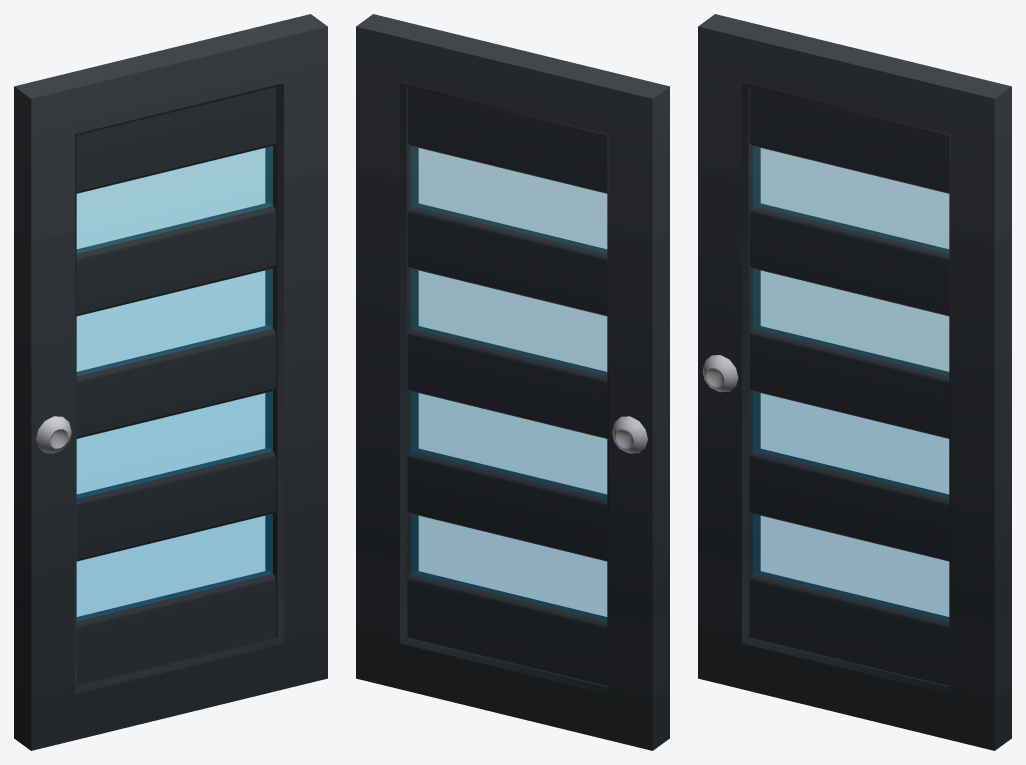
File: Door_Black_08.glb
3 views of the same model, side by side, from view 1: azimuth 30°, elevation 25°; view 2: azimuth 150°, elevation 25°; view 3: azimuth 330°, elevation 25° (orthographic).
Parts seen in each view (by area): view 1: Door_Black_08; view 2: Door_Black_08; view 3: Door_Black_08.
Boxes of the visible parts, x1,y1,x2,y2 form: Door_Black_08: (14,14,327,750); Door_Black_08: (356,14,669,750); Door_Black_08: (698,14,1011,750).
Bounding box in the file's own units: 1 × 2.1 × 0.1634.
2 materials, 2 textured.
